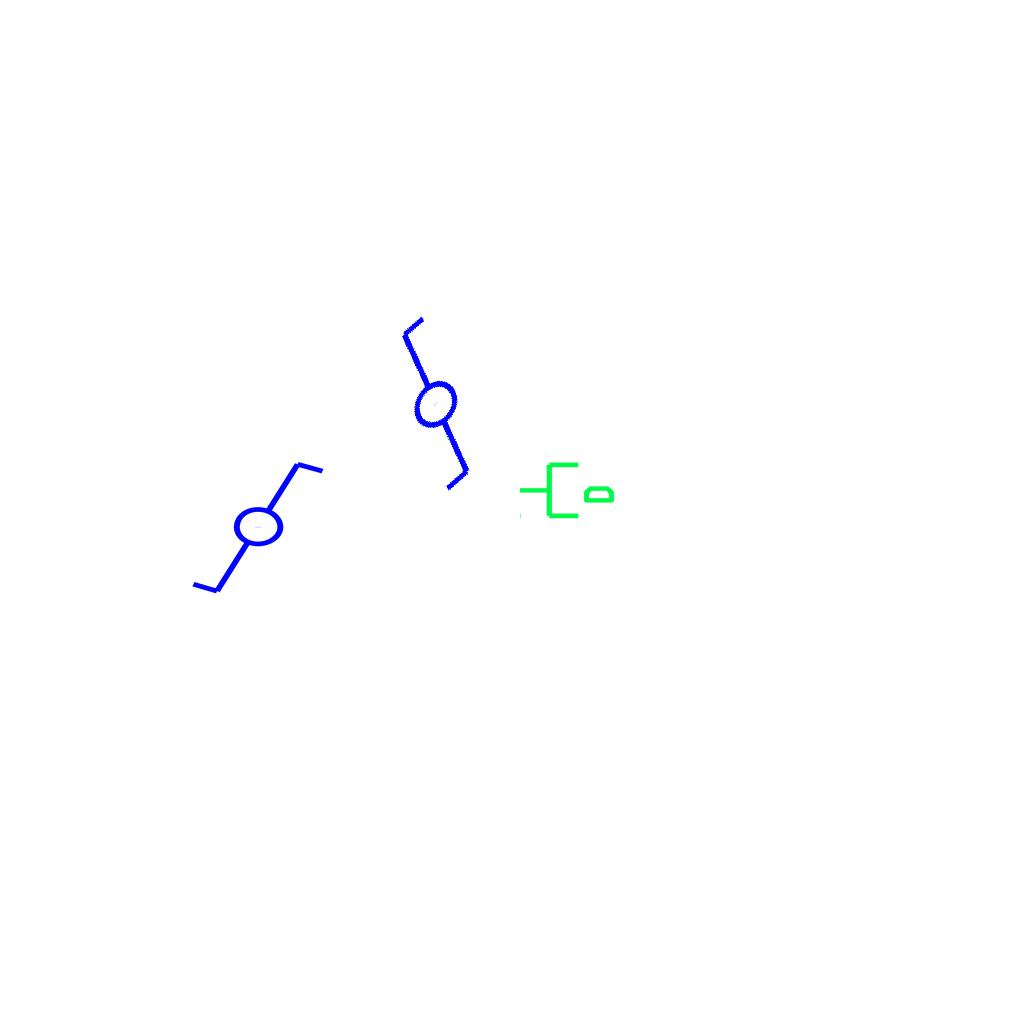Datenanschluss_einfach: (517, 454, 617, 523)
Wechselschalter: (326, 304, 533, 516), (188, 457, 345, 601)
